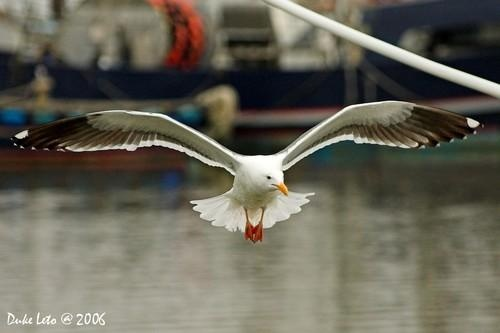bird: (14, 98, 488, 244)
